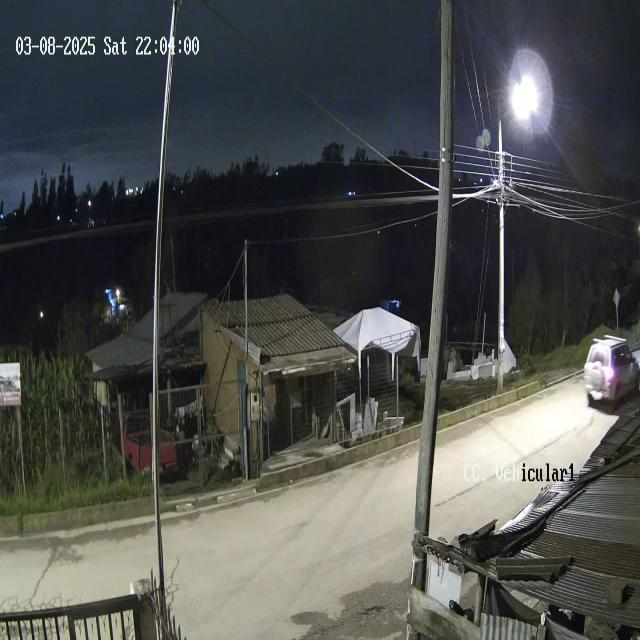SUV: (583, 335, 640, 409)
